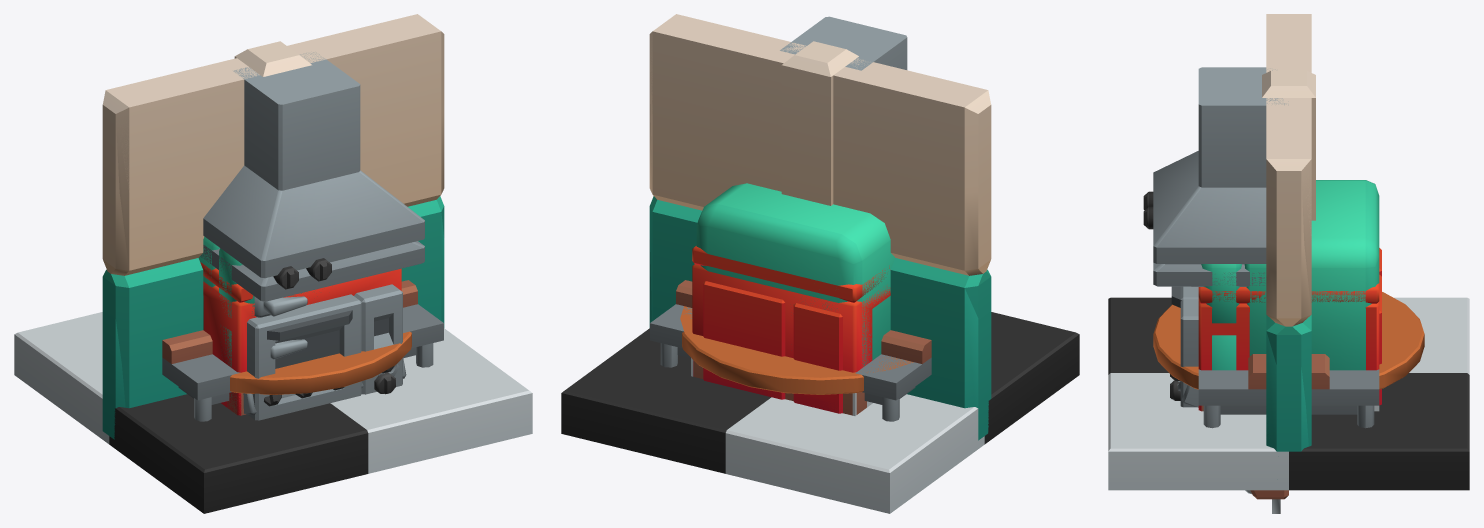
File: restaurant.glb
3 renders of one model, left to right at view 1: azimuth 30°, elevation 25°; view 2: azimuth 150°, elevation 25°; view 3: azimuth 270°, elevation 25°, orthographic. The views are drawn at different scales.
Parts seen in each view (by area): view 1: wall, floor_kitchen, extractorhood, wall_window_open, wall_orderwindow, oven, oven_door, wall_doorway, table_round_A, kitchentable_A_large, fridge_A_decorated_door_top, pillar_A (+2 smaller); view 2: floor_kitchen, wall, wall_orderwindow, fridge_A_decorated, wall_window_open, oven, pillar_A, wall_doorway, table_round_A, kitchentable_A_large, extractorhood, stove_multi (+1 smaller); view 3: floor_kitchen, extractorhood, wall, wall_orderwindow, fridge_A_decorated, oven, kitchentable_A_large, table_round_A, wall_window_open, pillar_A, fridge_A_decorated_door_top, wall_doorway (+3 smaller).
Boxes of the visible parts, bbox=[...] form: wall: bbox=[102, 14, 444, 439]; floor_kitchen: bbox=[14, 312, 532, 513]; extractorhood: bbox=[200, 52, 424, 301]; wall_window_open: bbox=[108, 15, 441, 407]; wall_orderwindow: bbox=[102, 14, 444, 439]; oven: bbox=[200, 262, 402, 415]; oven_door: bbox=[247, 294, 361, 420]; wall_doorway: bbox=[102, 119, 444, 406]; table_round_A: bbox=[230, 331, 411, 394]; kitchentable_A_large: bbox=[162, 304, 443, 421]; fridge_A_decorated_door_top: bbox=[219, 248, 307, 317]; pillar_A: bbox=[234, 41, 311, 76]; floor_kitchen: bbox=[561, 312, 1079, 513]; wall: bbox=[649, 14, 991, 440]; wall_orderwindow: bbox=[649, 14, 991, 439]; fridge_A_decorated: bbox=[696, 183, 895, 366]; wall_window_open: bbox=[652, 14, 984, 407]; oven: bbox=[692, 246, 890, 413]; pillar_A: bbox=[781, 41, 858, 205]; wall_doorway: bbox=[649, 116, 990, 438]; table_round_A: bbox=[680, 306, 913, 394]; kitchentable_A_large: bbox=[650, 304, 931, 421]; extractorhood: bbox=[780, 16, 907, 70]; stove_multi: bbox=[693, 360, 842, 413]; floor_kitchen: bbox=[1108, 297, 1469, 490]; extractorhood: bbox=[1143, 67, 1288, 286]; wall: bbox=[1266, 14, 1311, 451]; wall_orderwindow: bbox=[1248, 14, 1329, 451]; fridge_A_decorated: bbox=[1244, 180, 1379, 370]; oven: bbox=[1170, 248, 1381, 411]; kitchentable_A_large: bbox=[1198, 369, 1379, 428]; table_round_A: bbox=[1153, 292, 1424, 389]; wall_window_open: bbox=[1266, 14, 1311, 329]; pillar_A: bbox=[1262, 70, 1315, 220]; fridge_A_decorated_door_top: bbox=[1201, 264, 1241, 323]; wall_doorway: bbox=[1266, 244, 1311, 450].
Bounding box in the file's own units: 4 × 5.01 × 4.
1 material, 1 textured.
